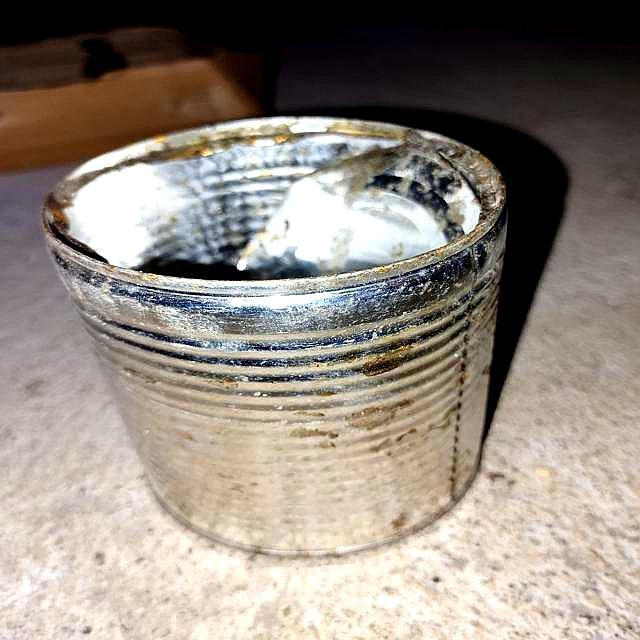Non-biodegradable: (41, 113, 512, 560)
